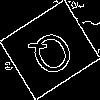Q: (25, 25, 83, 87)
